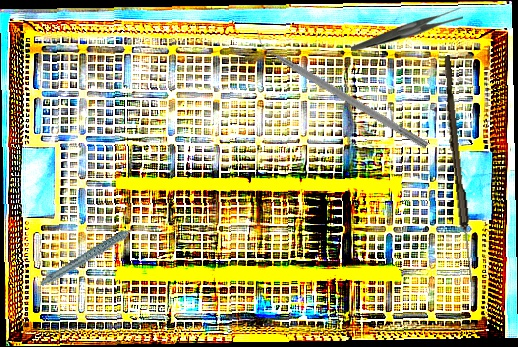Chopper: (248, 27, 435, 150)
Dressing Forceps: (351, 8, 463, 51)
Handpiece: (32, 223, 153, 288)
Surgical Spoon: (438, 55, 479, 288)
